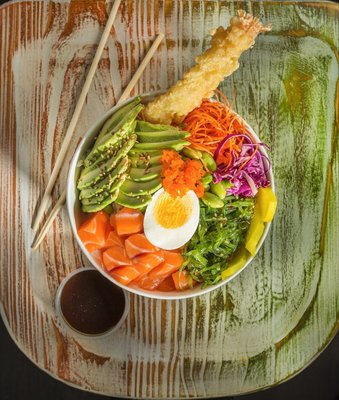sushi: (68, 42, 278, 300)
